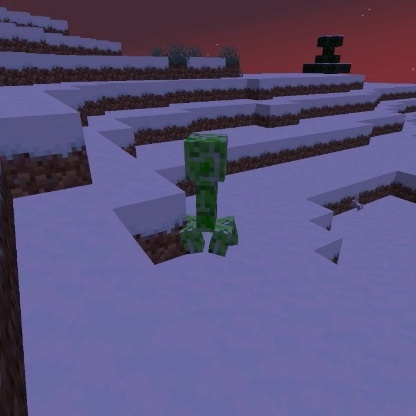creeper: (176, 130, 243, 259)
